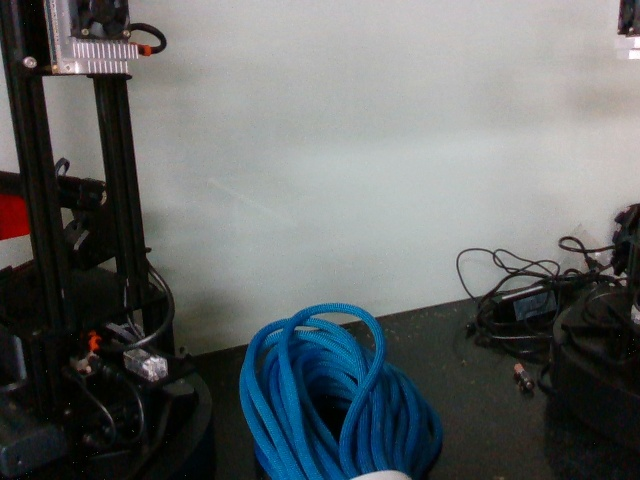rope: (238, 299, 446, 480)
